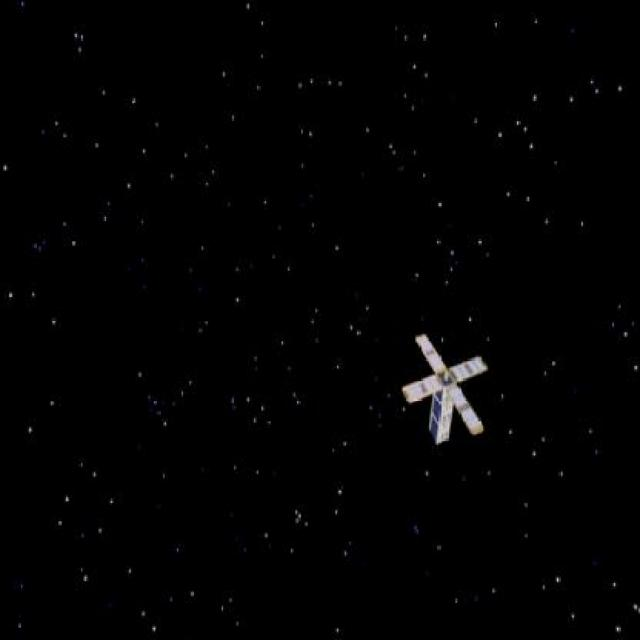satellite: (404, 327, 498, 448)
